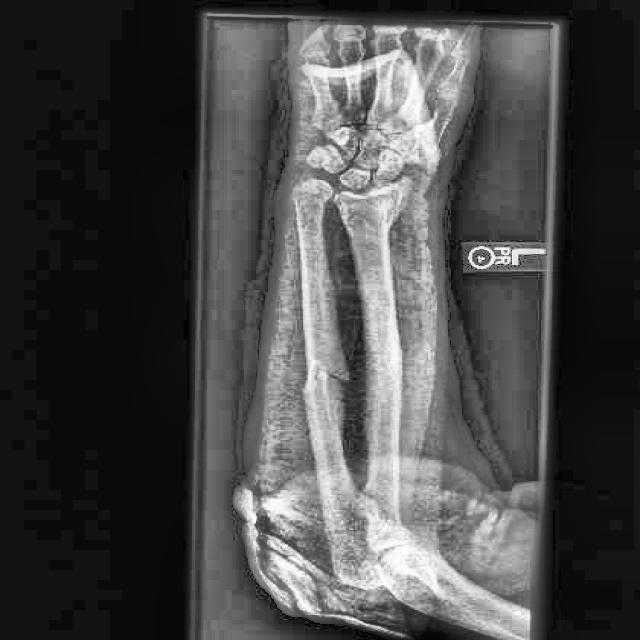forearm fracture: (284, 334, 366, 433)
